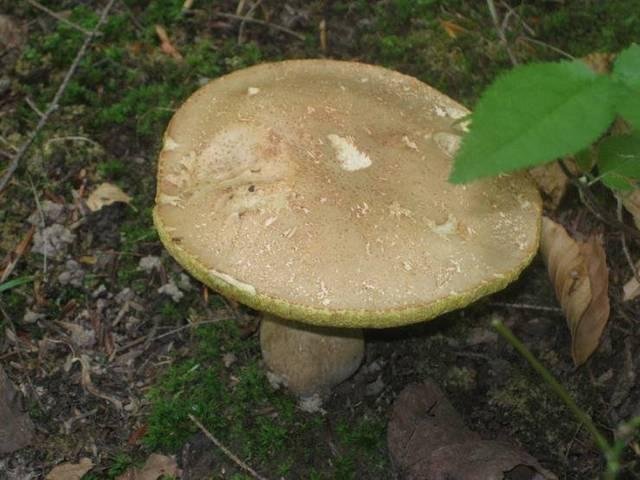Edible Mushroom: (151, 56, 544, 405)
